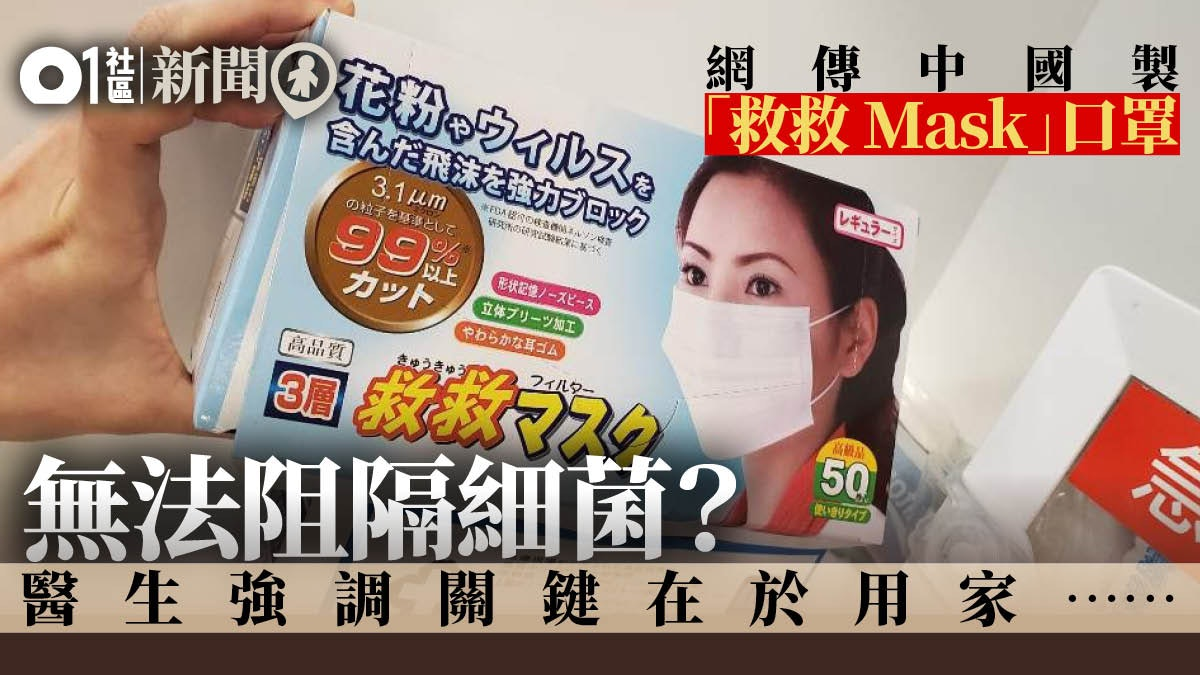Mask: (657, 172, 845, 461)
